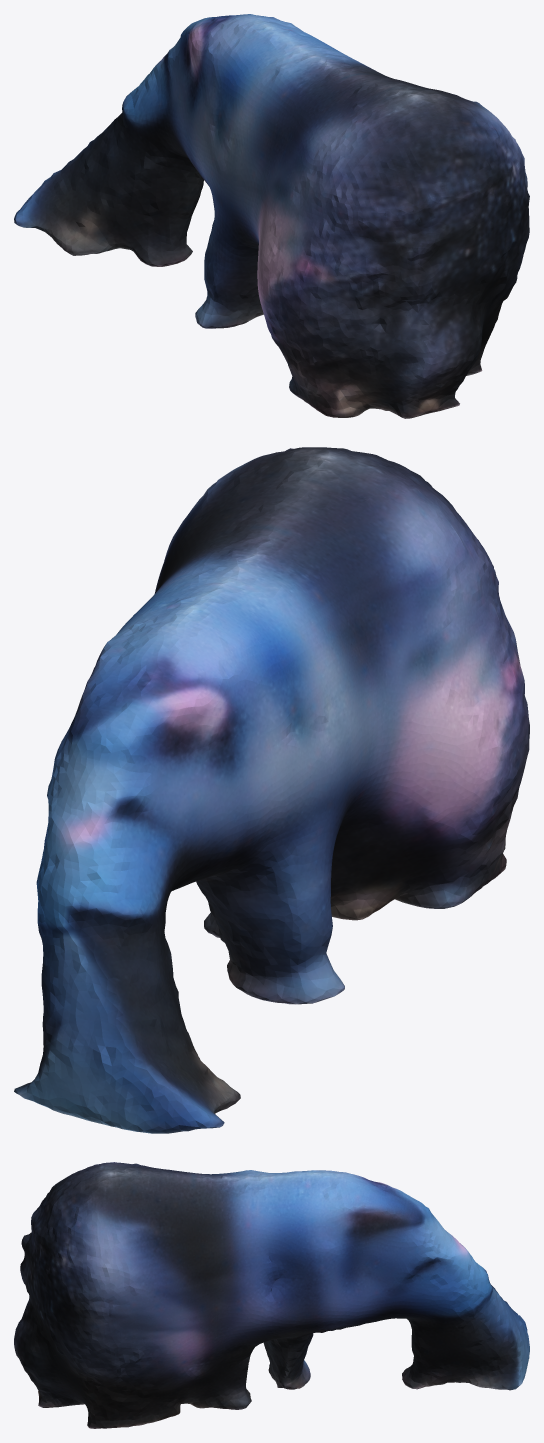
Rendered from IMG_SEG_54.glb.
3 views of the same model, one above another, from view 1: azimuth 30°, elevation 25°; view 2: azimuth 150°, elevation 25°; view 3: azimuth 270°, elevation 25° (orthographic). The views are drawn at different scales.
Size of the model in its own units: 0.506 by 0.51 by 1.
1 material, 1 textured.
